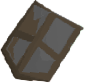kiteshield: (1, 1, 83, 83)
